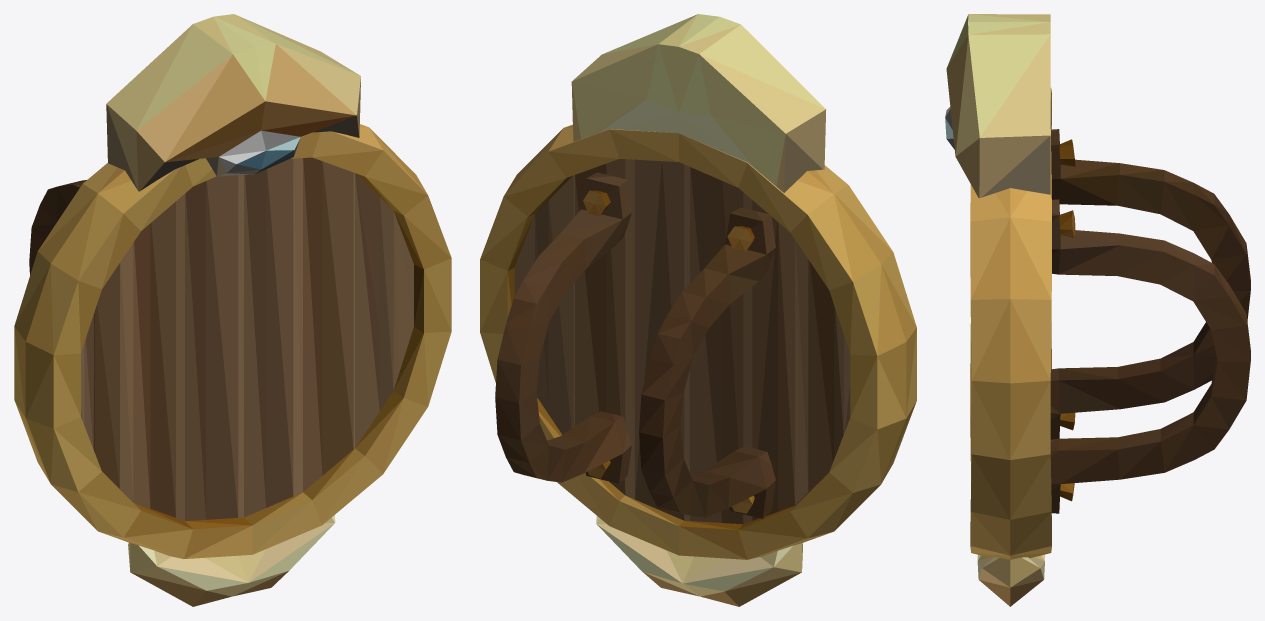
The model's file is weapon_shield_gold_1.fbx.
3 views of the same model, side by side, from view 1: azimuth 30°, elevation 25°; view 2: azimuth 150°, elevation 25°; view 3: azimuth 270°, elevation 25° (orthographic).
Visible parts, largest first — view 1: weapon_shield_gold_1; view 2: weapon_shield_gold_1; view 3: weapon_shield_gold_1.
Part boxes in pixels (box(x1,y1,x2,y2)): weapon_shield_gold_1: box(14, 14, 451, 606); weapon_shield_gold_1: box(480, 14, 916, 606); weapon_shield_gold_1: box(945, 14, 1250, 606).
Size of the model in its own units: 0.6823 by 0.8882 by 0.4345.
